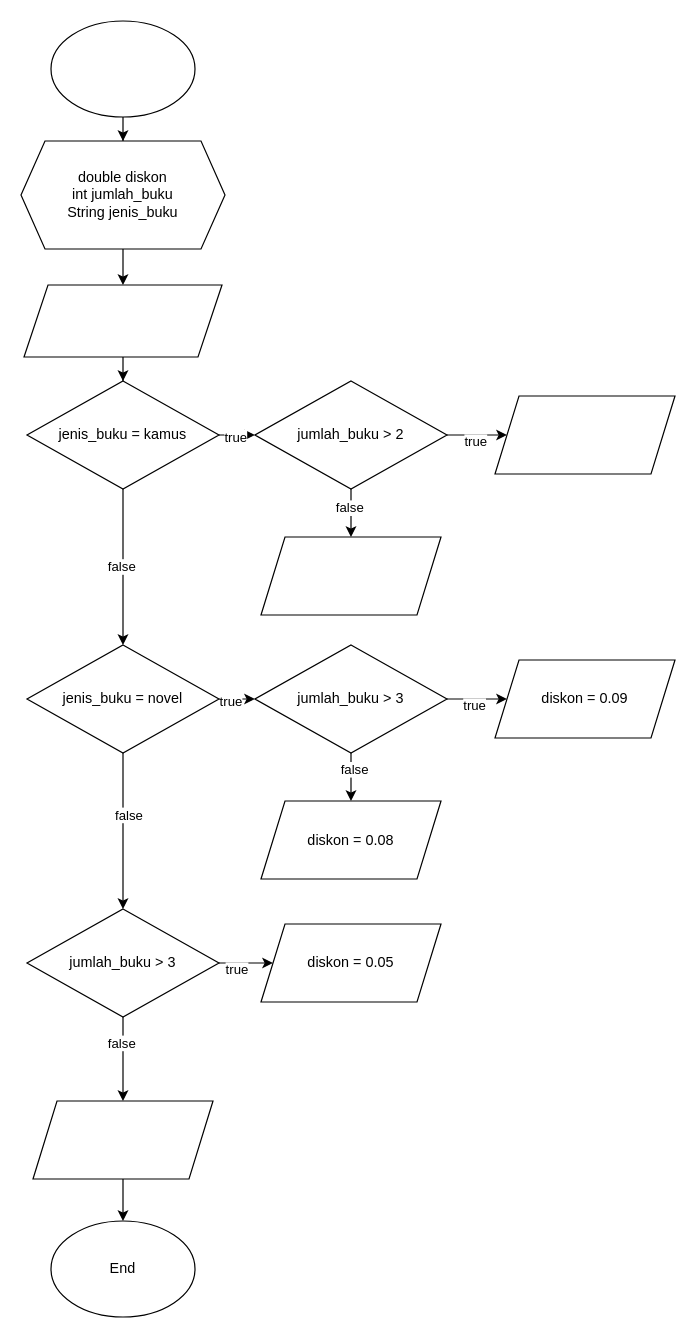
The diagram is 696 pixels wide and 1338 high, and some of its shapes have lost their labels. The shapes that lost their labels are listed below. From the top down, each one's box as (x1, y1, x2, y2) in pixels, then its label:
(50, 20, 195, 117): Start
(23, 284, 222, 357): jumlah_buku, jenis_buku
(494, 395, 675, 474): diskon = 0.12
(260, 536, 441, 615): diskon = 0.1
(32, 1100, 213, 1179): diskon = 0
